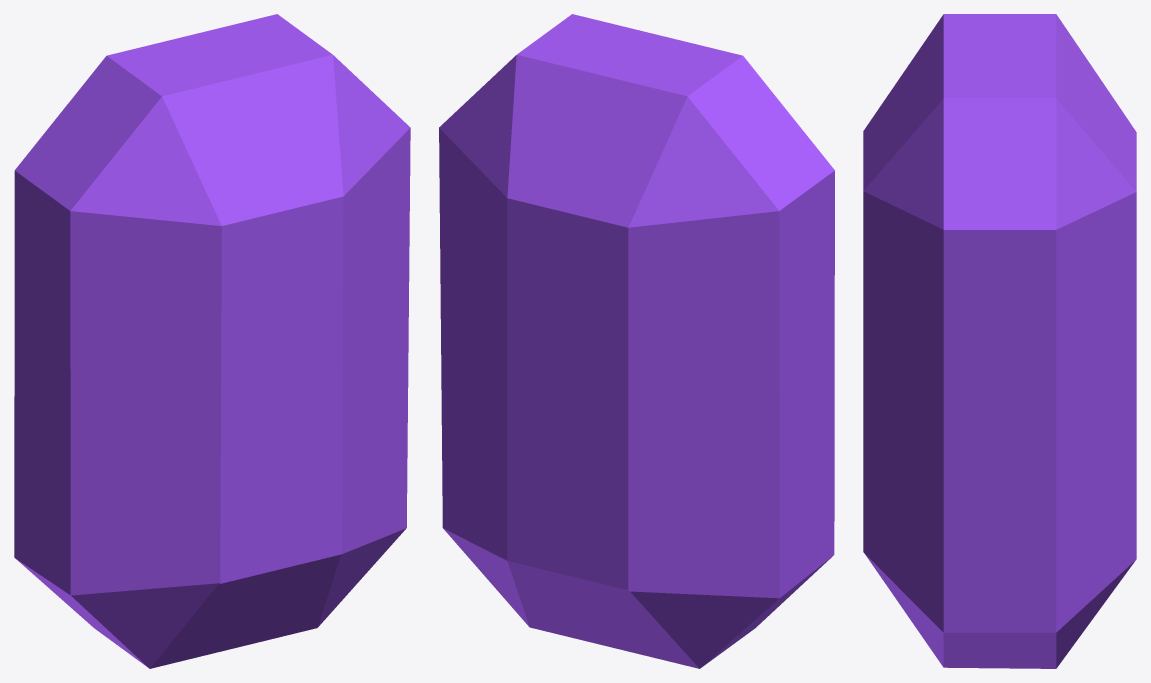
Rendered from Ametista.fbx.
The picture shows the model from 3 angles, left to right: view 1: azimuth 30°, elevation 25°; view 2: azimuth 150°, elevation 25°; view 3: azimuth 270°, elevation 25°; orthographic projection.
Parts seen in each view (by area): view 1: Ametista; view 2: Ametista; view 3: Ametista.
Boxes of the visible parts, x1,y1,x2,y2 form: Ametista: [14, 14, 410, 668]; Ametista: [439, 14, 834, 668]; Ametista: [863, 14, 1136, 668].
Bounding box in the file's own units: 292 × 466 × 200.
